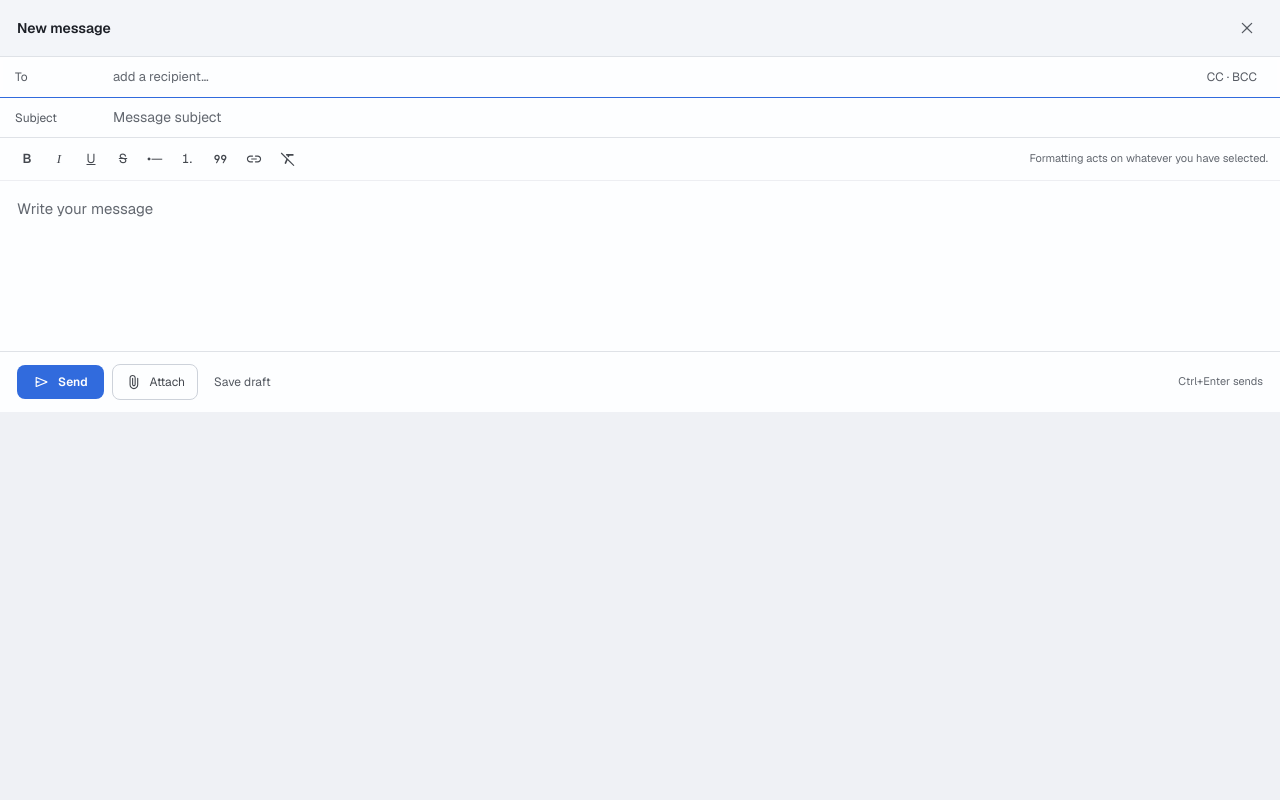
Composer, a message of its own › files nothing from the copy headers while they are hidden, and keeps what they hold to show again
This screenshot has width=1280, height=800.
Step 1. Type "ada@example.invalid" into the dropdown labelled "To" → (651, 77), box [113,67,1189,87]
Step 2. Press Enter in the dropdown labelled "To", box [113,67,1189,87]
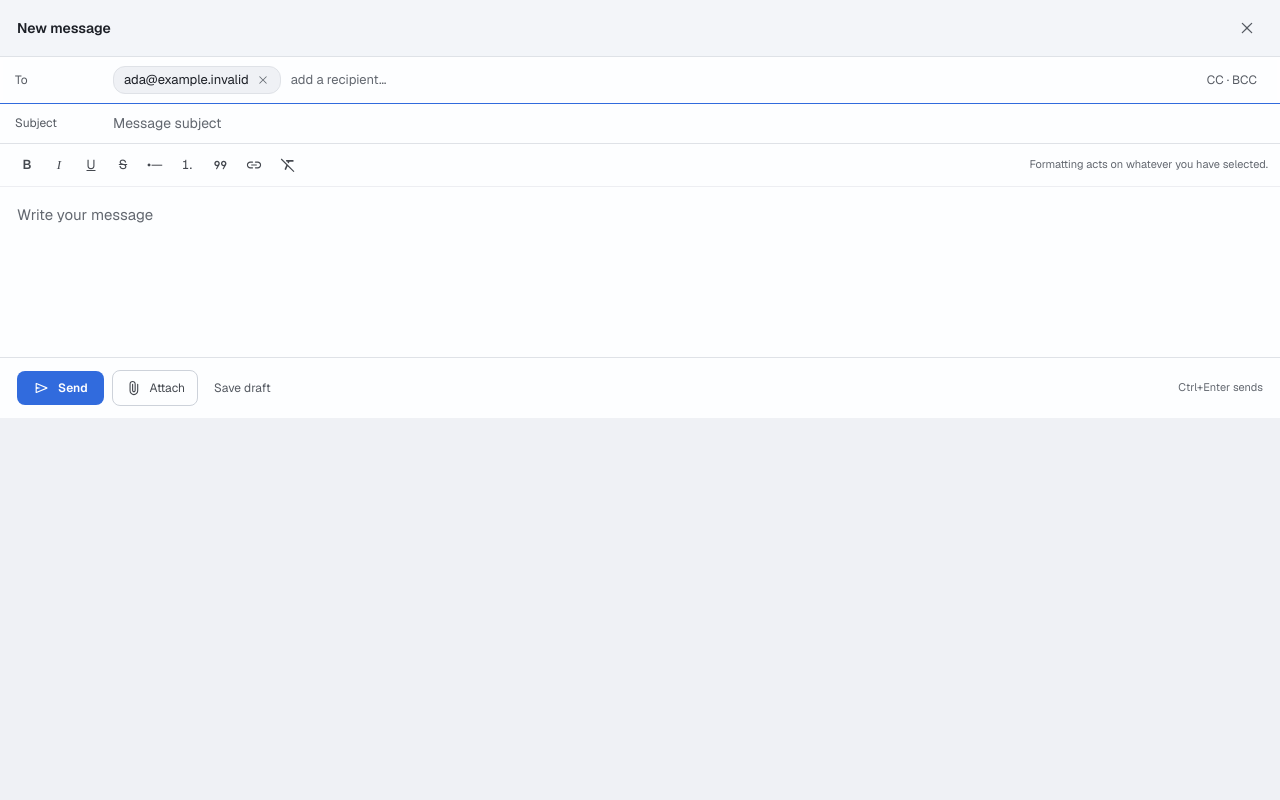
Step 3. Click the button with aria-label "Show CC and BCC fields" → (1232, 80), box [1199,69,1265,91]
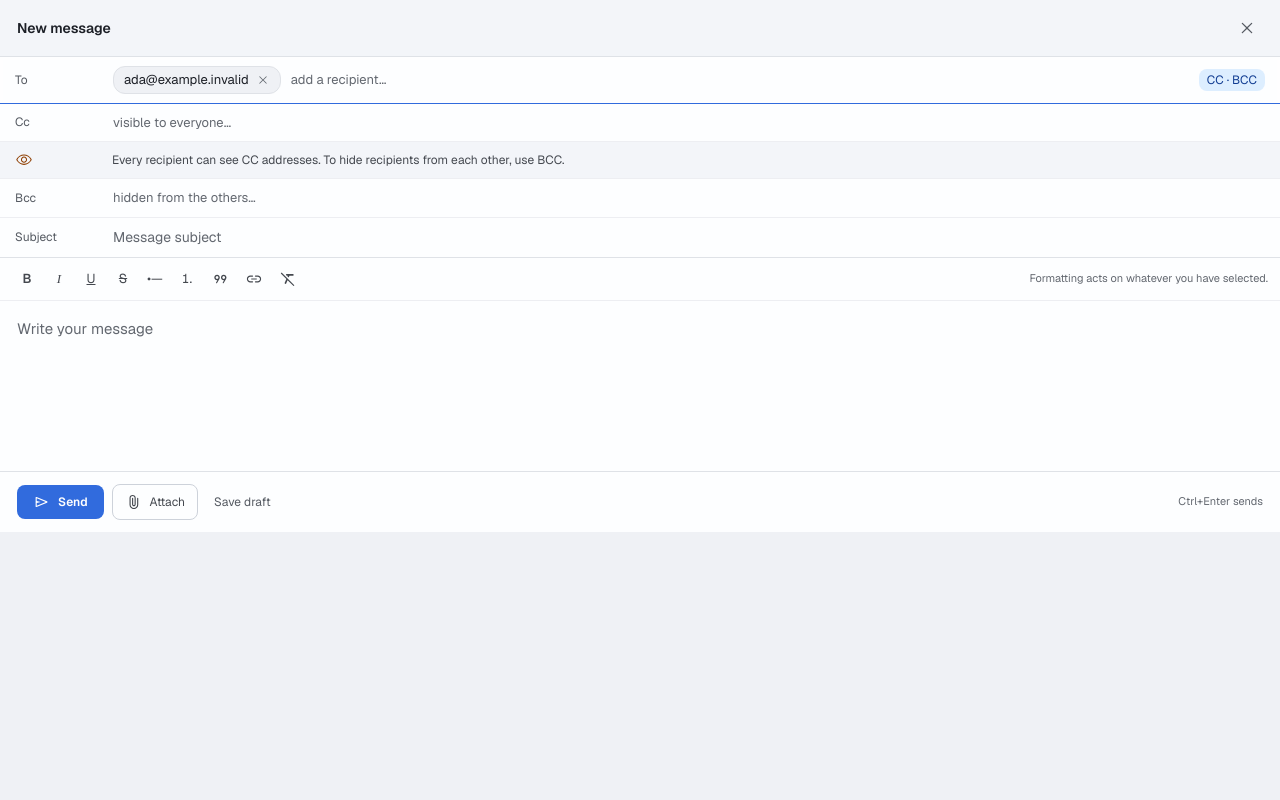
Step 4. Type "bo@example.invalid" into the dropdown labelled "Bcc" → (689, 198), box [113,188,1265,208]
Step 5. Press Enter in the dropdown labelled "Bcc", box [113,188,1265,208]
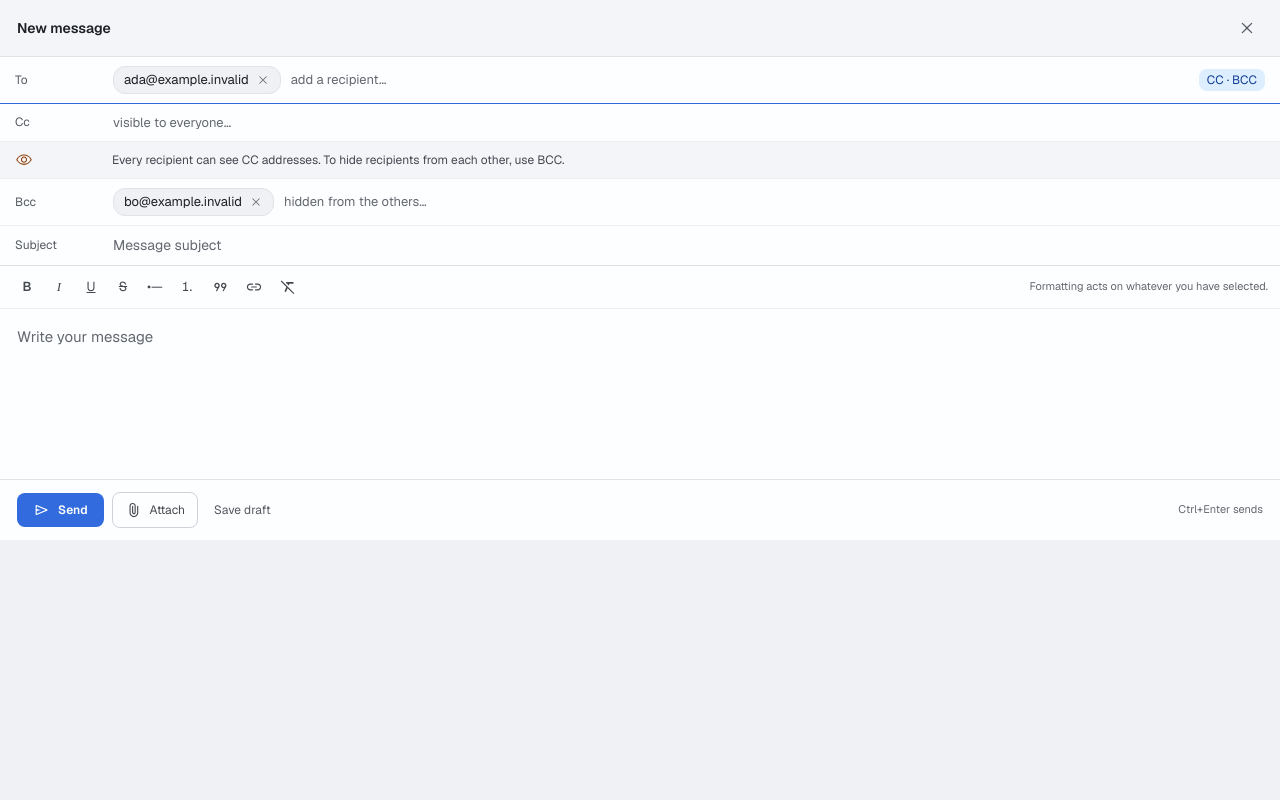
Step 6. Click the button with aria-label "Hide CC and BCC fields" → (1232, 80), box [1199,69,1265,91]
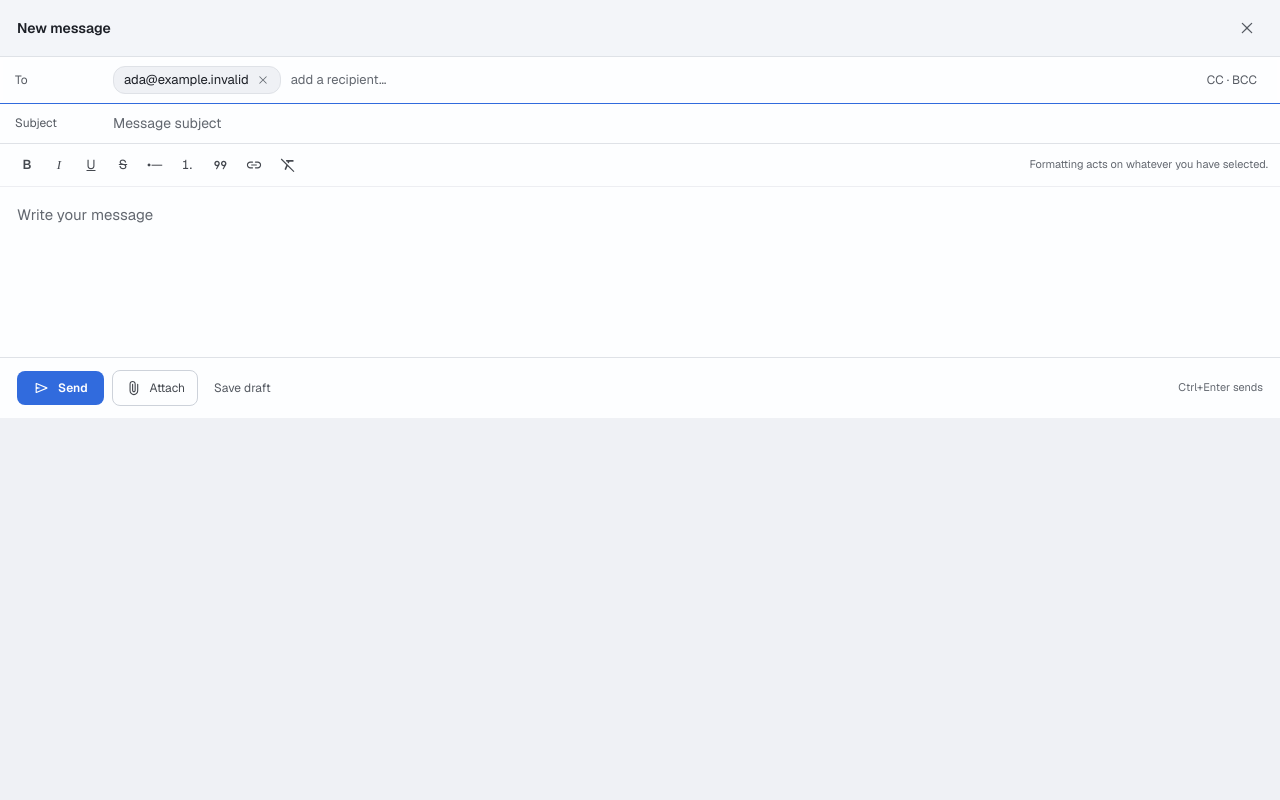
Step 7. Click the button "Save draft" → (242, 388), box [206,370,279,404]
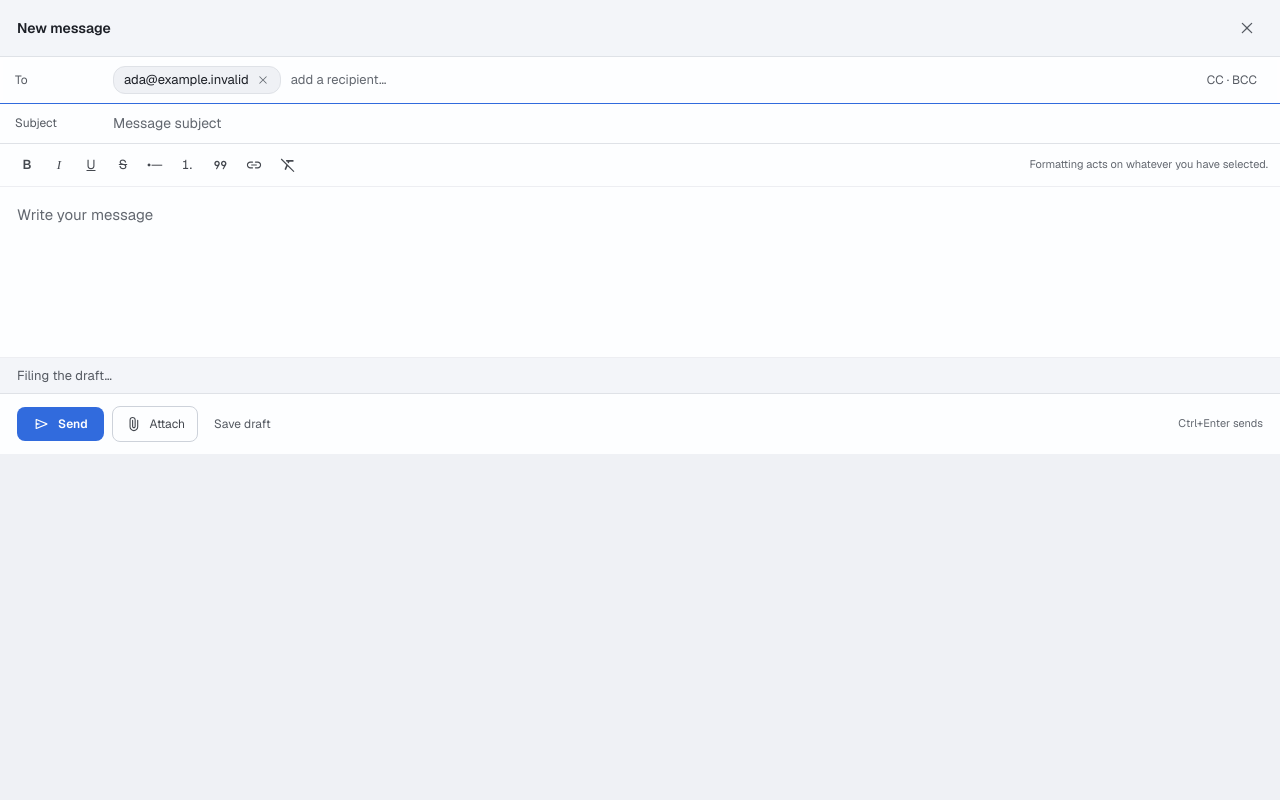
Step 8. Click the button with aria-label "Show CC and BCC fields" → (1232, 80), box [1199,69,1265,91]
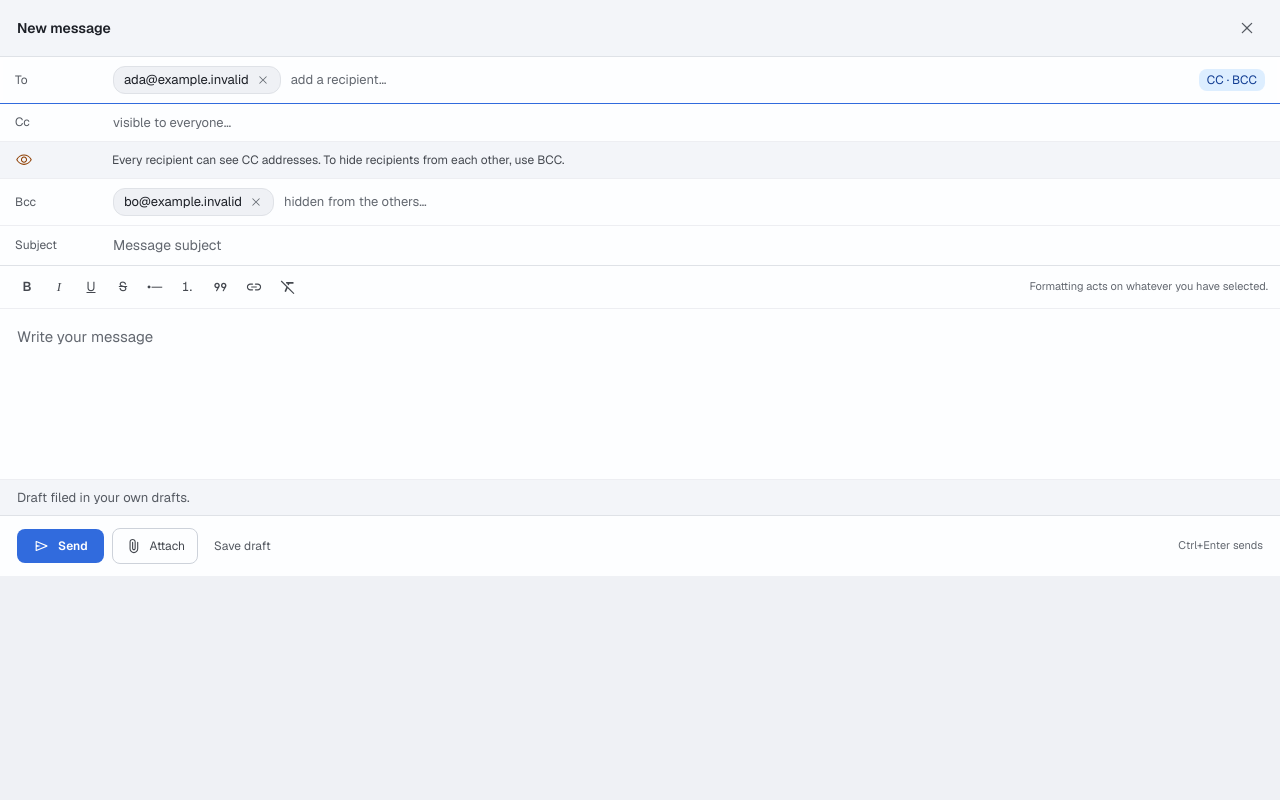
Expected: the button named "Remove bo@example.invalid from Bcc" is shown, [249,195,263,209]
